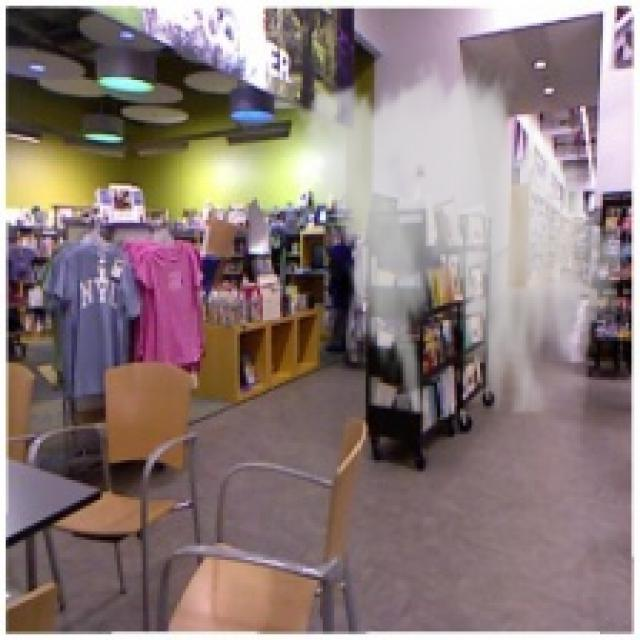smoke: (286, 57, 637, 414)
